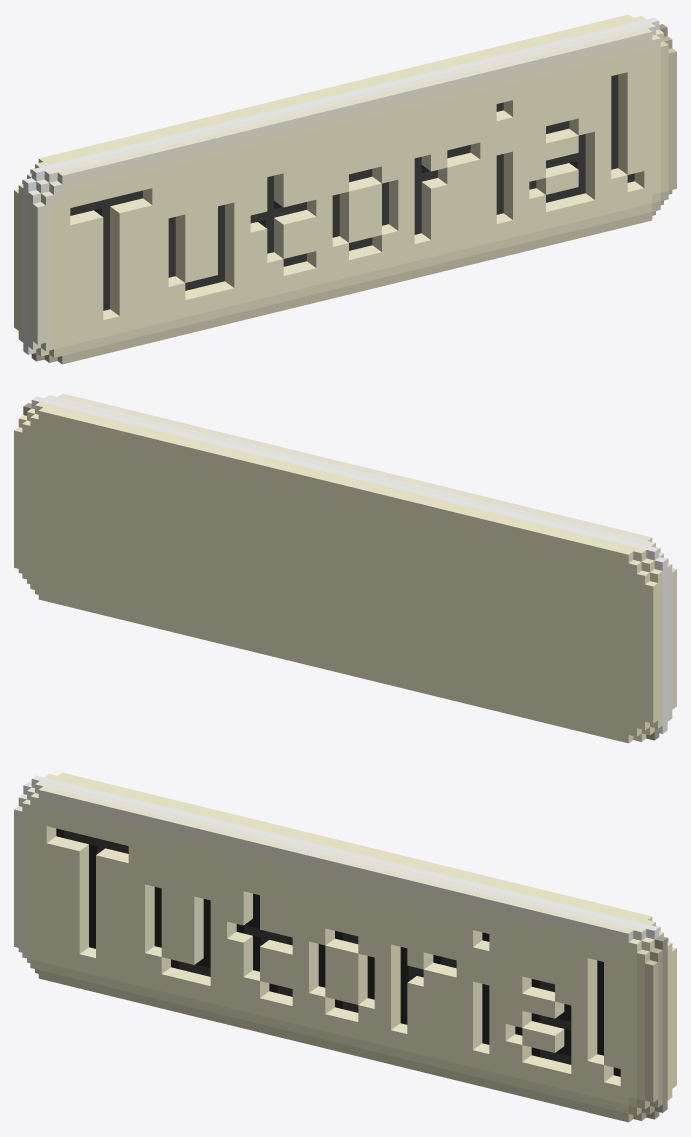
The model's file is Tutorial.obj.
3 renders of one model, top to bottom at view 1: azimuth 30°, elevation 25°; view 2: azimuth 150°, elevation 25°; view 3: azimuth 330°, elevation 25°, orthographic.
Size of the model in its own units: 7.8 by 2.2 by 0.5.
Materials: 1 (1 with a texture image).
